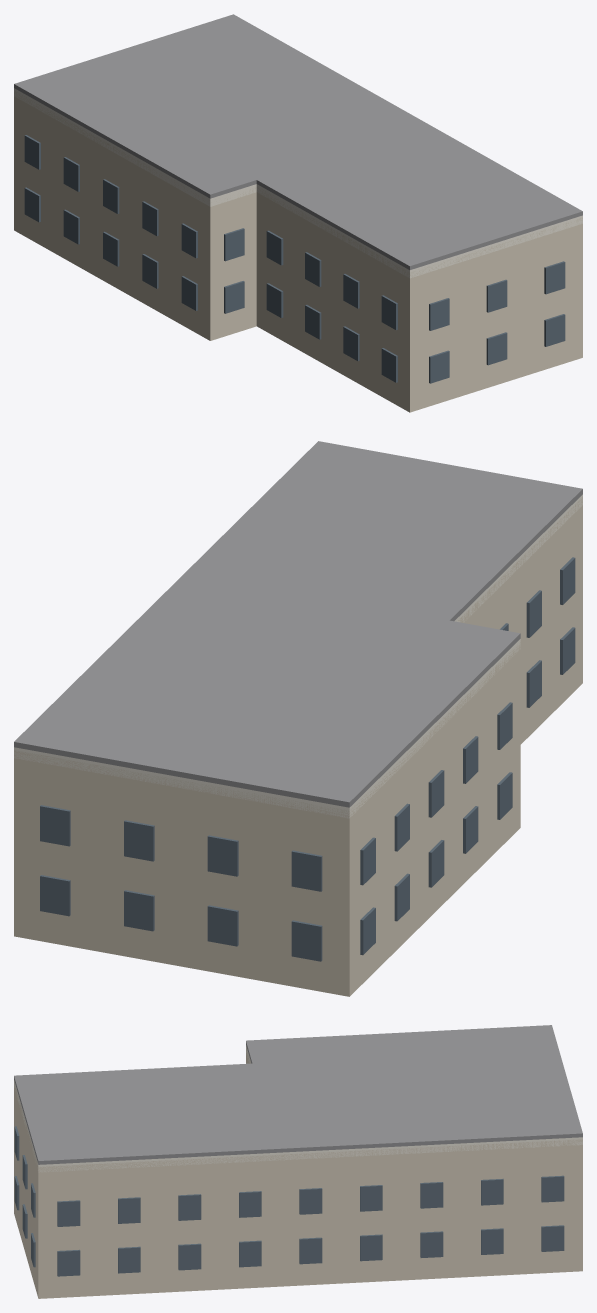
File: s07_gis_247989_820841.glb
3 views of the same model, one above another, from view 1: azimuth 30°, elevation 25°; view 2: azimuth 150°, elevation 25°; view 3: azimuth 270°, elevation 25° (orthographic). The views are drawn at different scales.
Visible parts, largest first — view 1: mass, roofcap, cornice, win_3_1_2, win_3_0_1, win_3_1_1, win_3_0_2, win_3_0_0, win_1_0_0, win_1_1_0, win_3_1_0; view 2: roofcap, mass, cornice, win_5_0_2, win_5_1_2, win_5_1_3, win_5_0_3, win_5_0_1, win_5_1_0, win_5_0_0, win_5_1_1; view 3: mass, roofcap, cornice, win_4_0_2, win_4_0_4, win_4_1_8, win_4_0_0, win_4_1_4, win_4_1_6, win_4_0_6, win_4_0_8, win_4_1_0 (+9 smaller).
Boxes of the visible parts, box(x1,y1,x2,y2) form: mass: box(14, 91, 582, 412); roofcap: box(14, 14, 582, 269); cornice: box(14, 88, 582, 278); win_3_1_2: box(544, 261, 565, 294); win_3_0_1: box(486, 332, 507, 365); win_3_1_1: box(486, 279, 507, 312); win_3_0_2: box(544, 314, 565, 346); win_3_0_0: box(429, 350, 449, 383); win_1_0_0: box(224, 281, 244, 313); win_1_1_0: box(224, 228, 244, 261); win_3_1_0: box(429, 298, 449, 330); roofcap: box(14, 441, 582, 807); mass: box(14, 497, 582, 996); cornice: box(14, 494, 582, 818); win_5_0_2: box(207, 905, 238, 946); win_5_1_2: box(207, 835, 238, 876); win_5_1_3: box(291, 850, 322, 891); win_5_0_3: box(291, 920, 322, 961); win_5_0_1: box(124, 890, 154, 931); win_5_1_0: box(40, 805, 70, 846); win_5_0_0: box(40, 875, 70, 916); win_5_1_1: box(124, 820, 154, 861); mass: box(14, 1049, 582, 1298); roofcap: box(14, 1025, 582, 1164); cornice: box(14, 1045, 582, 1172); win_4_0_2: box(178, 1243, 201, 1270); win_4_0_4: box(299, 1237, 322, 1264); win_4_1_8: box(541, 1175, 564, 1202); win_4_0_0: box(57, 1249, 80, 1276); win_4_1_4: box(299, 1188, 322, 1214); win_4_1_6: box(420, 1182, 443, 1208); win_4_0_6: box(420, 1231, 443, 1257); win_4_0_8: box(541, 1225, 564, 1251); win_4_1_0: box(57, 1200, 80, 1226).
Bounding box in the file's own units: 17.68 × 8.35 × 31.24.
